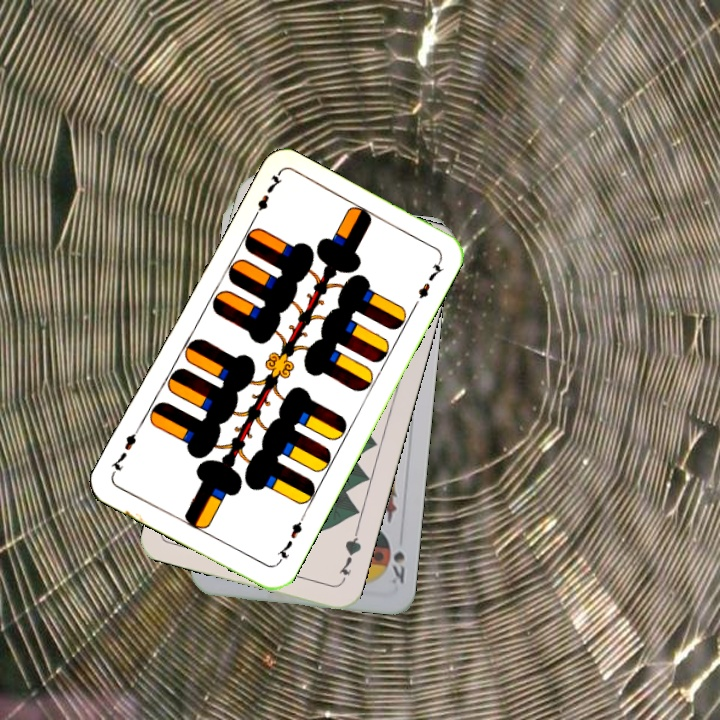E7: (247, 170, 285, 224), (272, 512, 307, 567)
G7: (335, 527, 364, 578)
SK: (387, 547, 408, 587)
